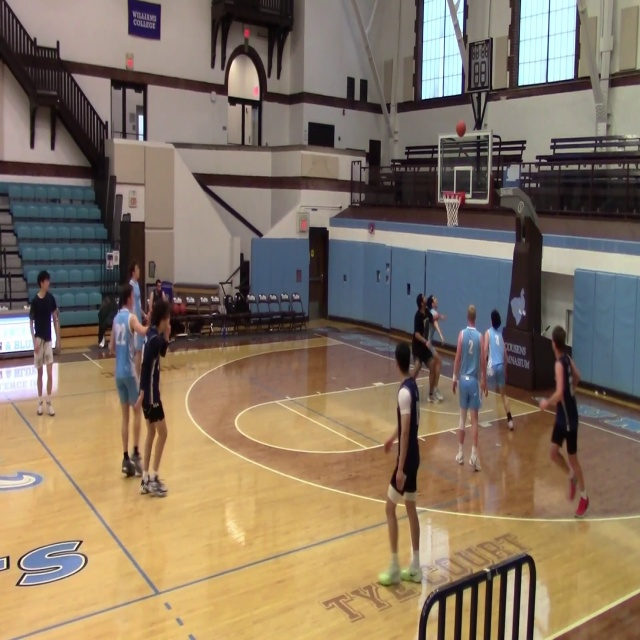Basketball: (455, 120, 466, 137), (539, 398, 549, 411)
